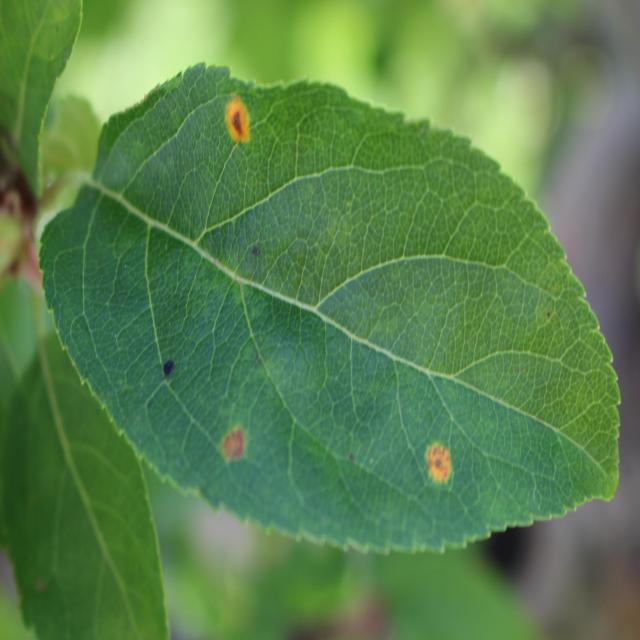Rust: (417, 429, 460, 509), (217, 76, 256, 162), (216, 409, 251, 490)
